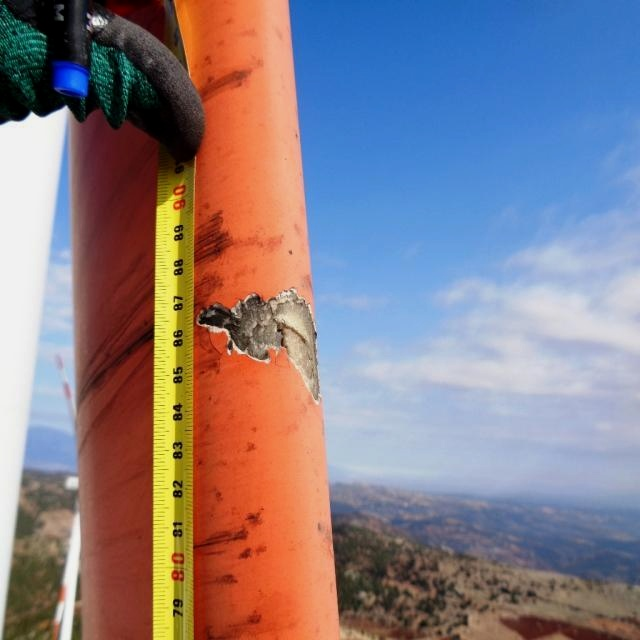Coating_defects: (200, 291, 322, 404)
